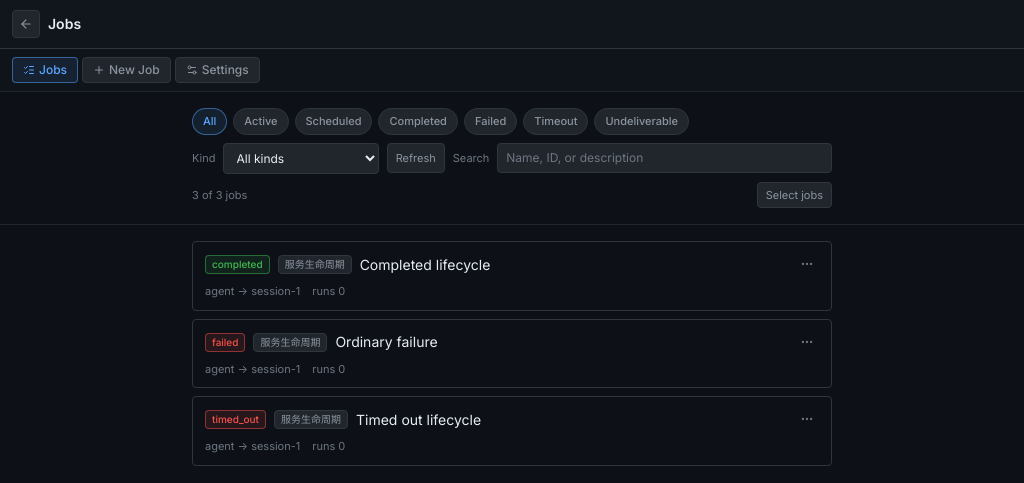
Test: JobsView search, status filters, and bulk actions › matches Completed and Timeout only to their persisted API statuses
The width and height of the screenshot is (1024, 483).
Expected: the text "Completed lifecycle" is shown, [360,256,490,272]
Click the button "Completed".
click(418, 121)  # box [378,108,458,134]
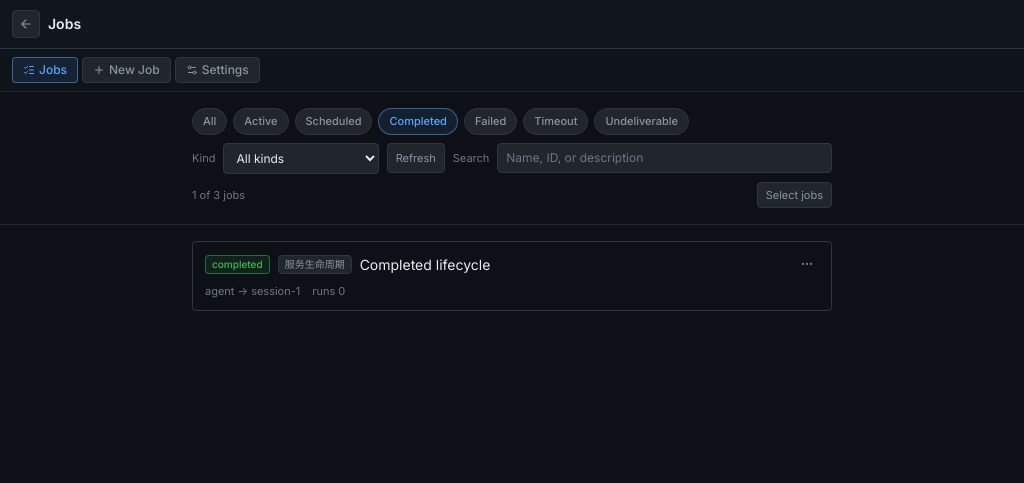
Expected: the text "Completed lifecycle" is shown, [360,256,490,272]
Now the text "Timed out lifecycle" is gone
Now the text "Ordinary failure" is gone
Click the button "Timeout".
click(556, 121)  # box [523,108,588,134]
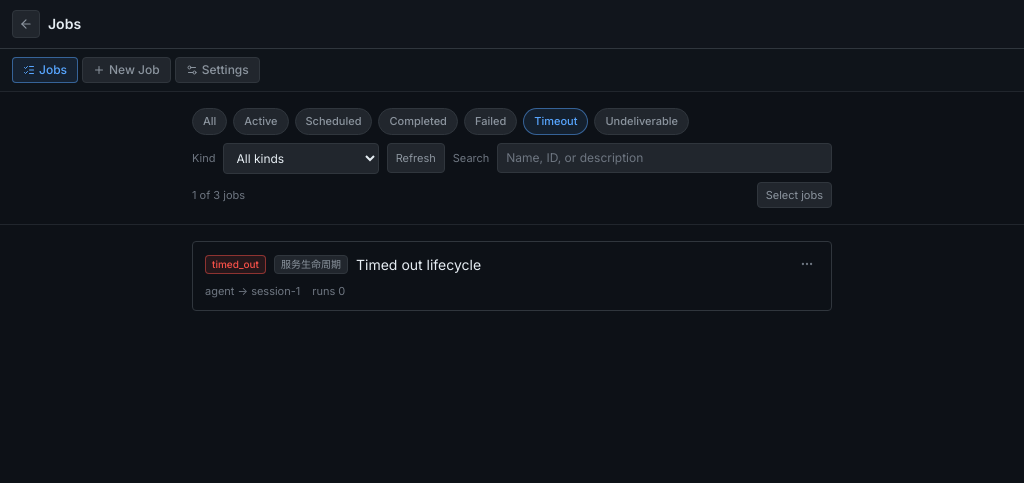
Expected: the text "Ordinary failure" is not shown
Now the text "Timed out lifecycle" is shown, box [356,256,481,272]
Now the text "Completed lifecycle" is gone
